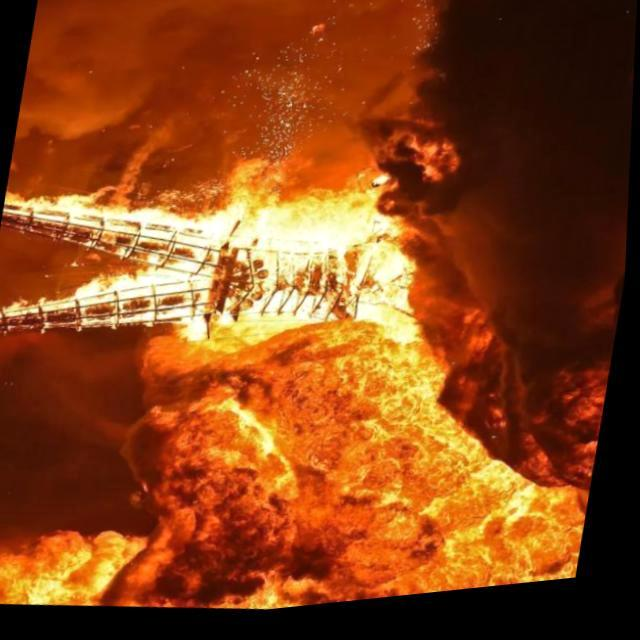fire: (0, 268, 608, 640), (0, 130, 448, 446)
